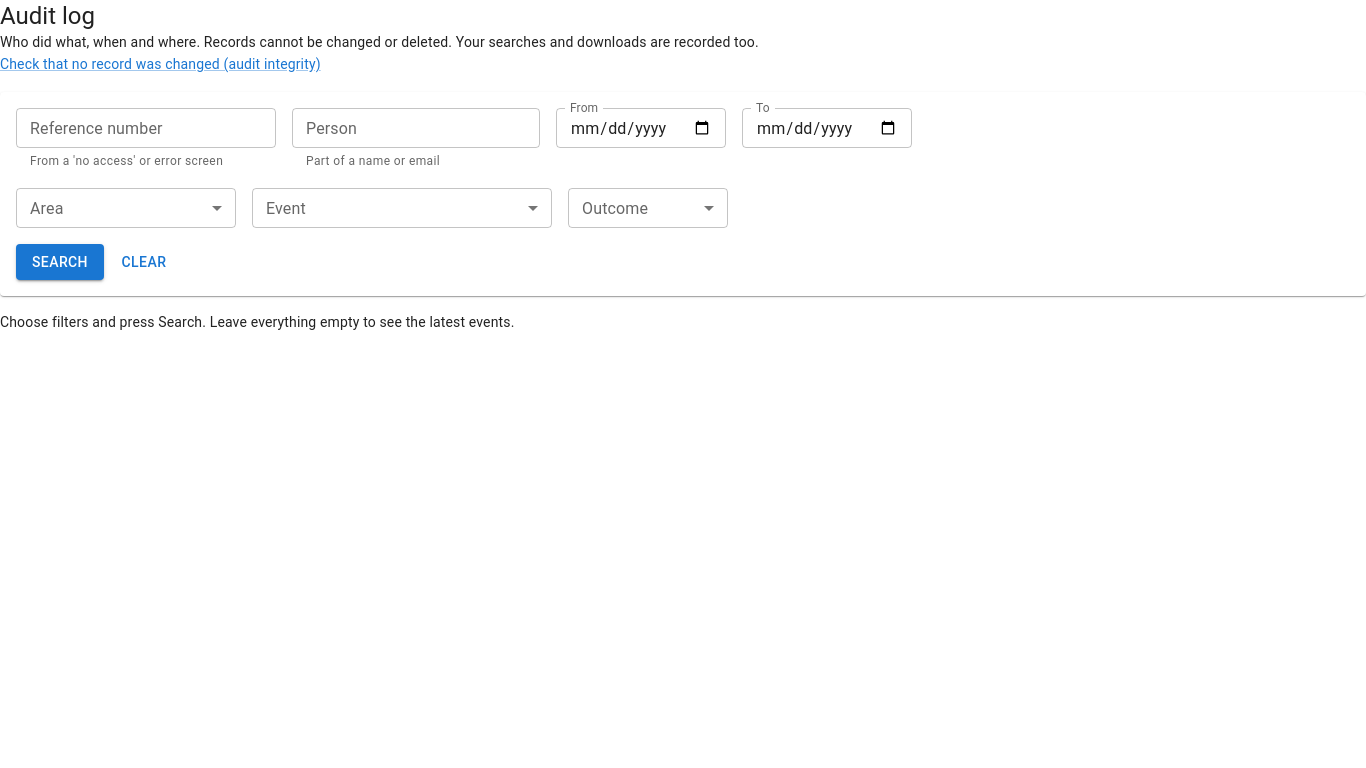
Test: AuditLogPage › shows what changed, before and after
Click the button "Search". click: (60, 262)
box: [16,244,104,280]
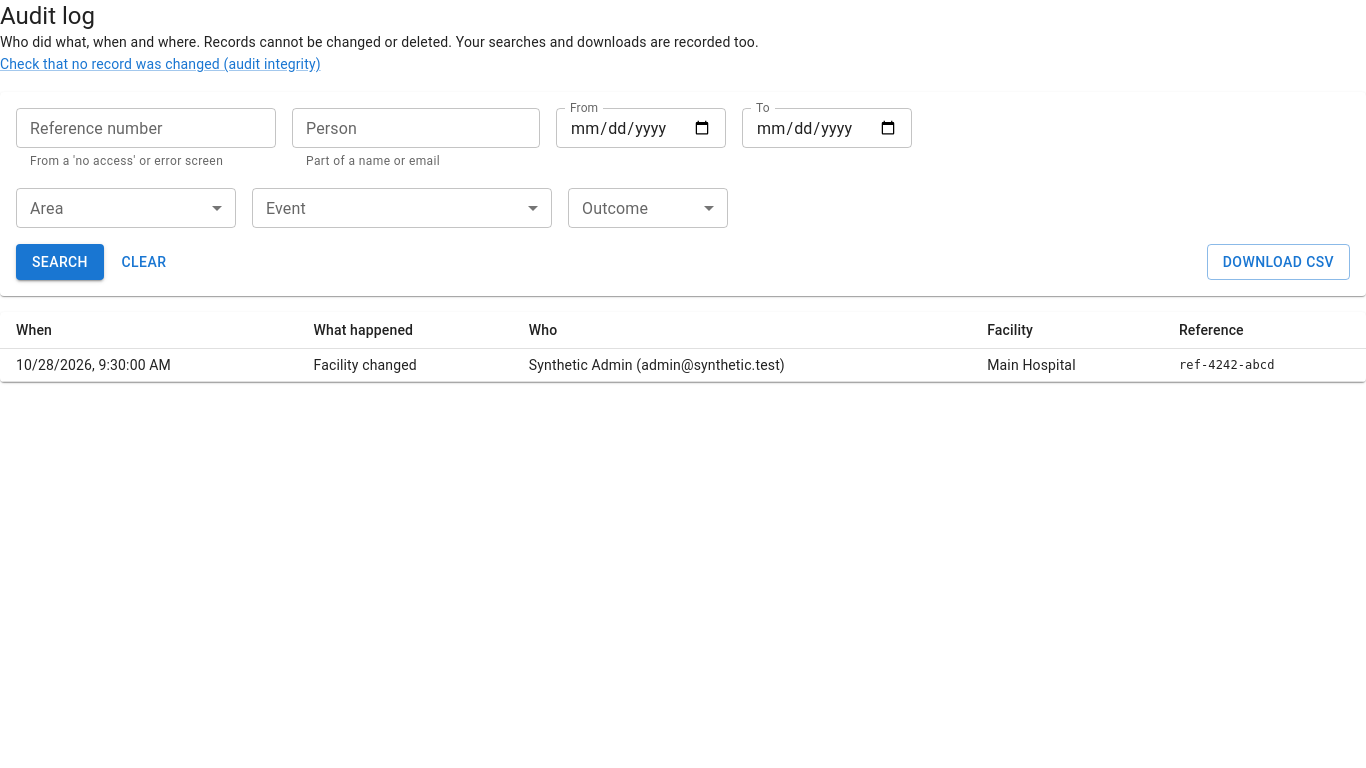
Click the text "Facility changed". click: (405, 365)
box: [298,349,513,382]
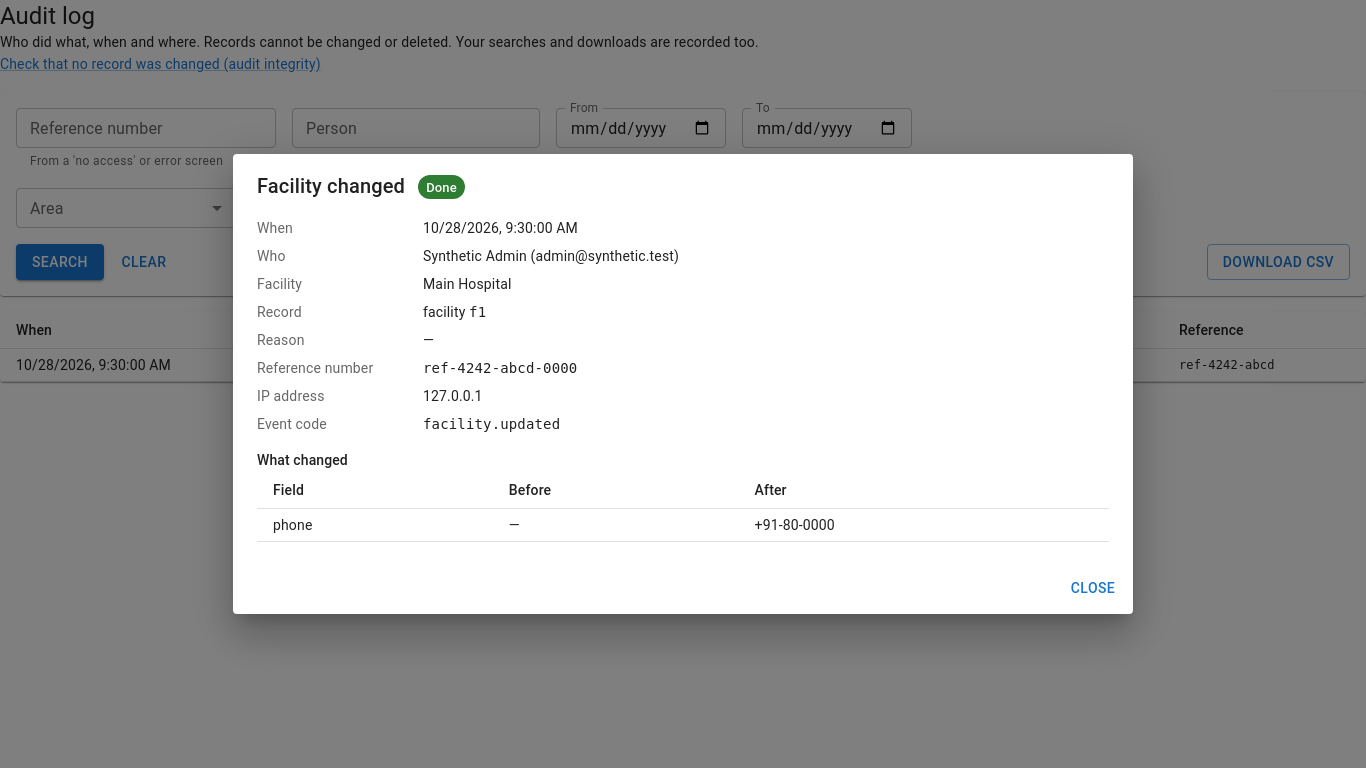
Result: the text "phone" is shown at [257,508,493,541]
Result: the text "+91-80-0000" is shown at [739,508,1109,541]
Result: the text "ref-4242-abcd-0000" is shown at [423,360,577,376]
